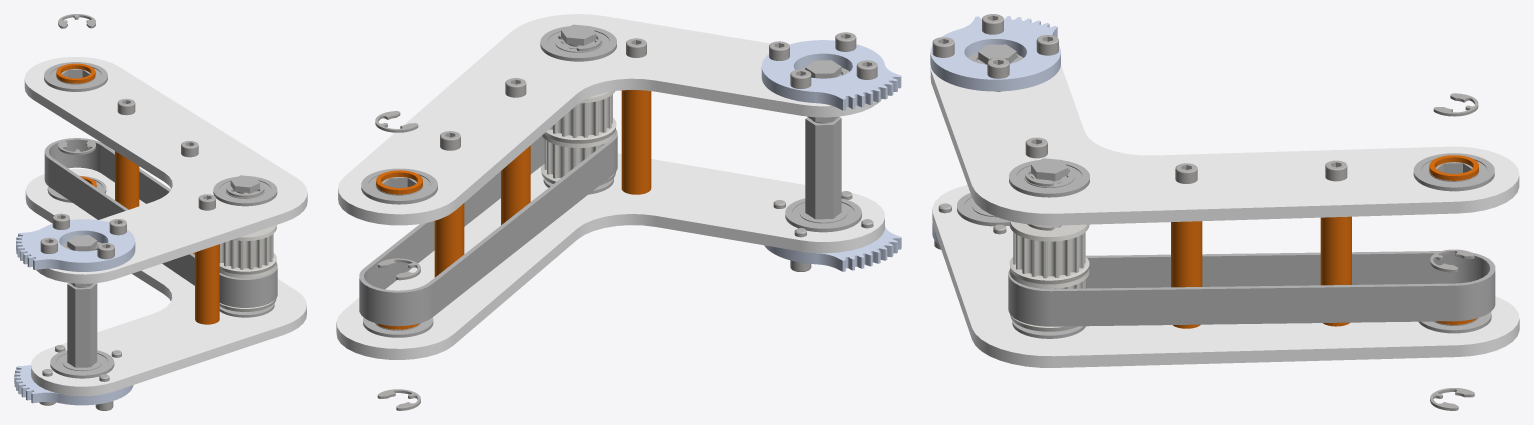
3 renders of one model, left to right at view 1: azimuth 30°, elevation 25°; view 2: azimuth 150°, elevation 25°; view 3: azimuth 270°, elevation 25°, orthographic. The views are drawn at different scales.
Visible parts, largest first — view 1: Solid1 (×21); view 2: Solid1 (×17); view 3: Solid1 (×16).
Part boxes in pixels (<box>): Solid1 (×21): <box>14,14,307,405</box>; Solid1 (×17): <box>336,14,901,359</box>; Solid1 (×16): <box>930,16,1519,367</box>.
Size of the model in its own units: 0.1664 by 0.1256 by 0.2256.
